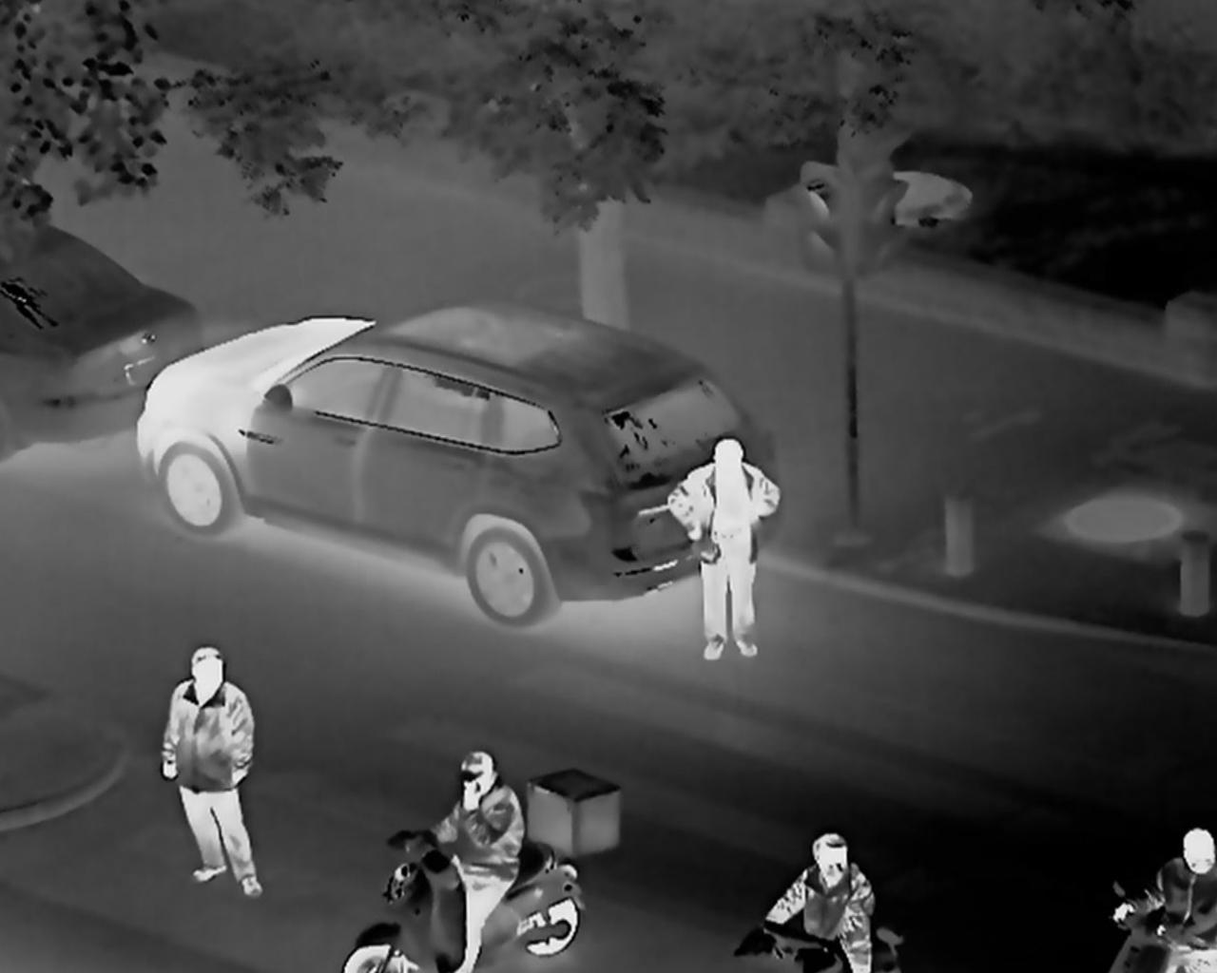person: (155, 635, 282, 896), (405, 726, 534, 973), (675, 437, 791, 622), (775, 835, 886, 973), (1150, 821, 1217, 972)
